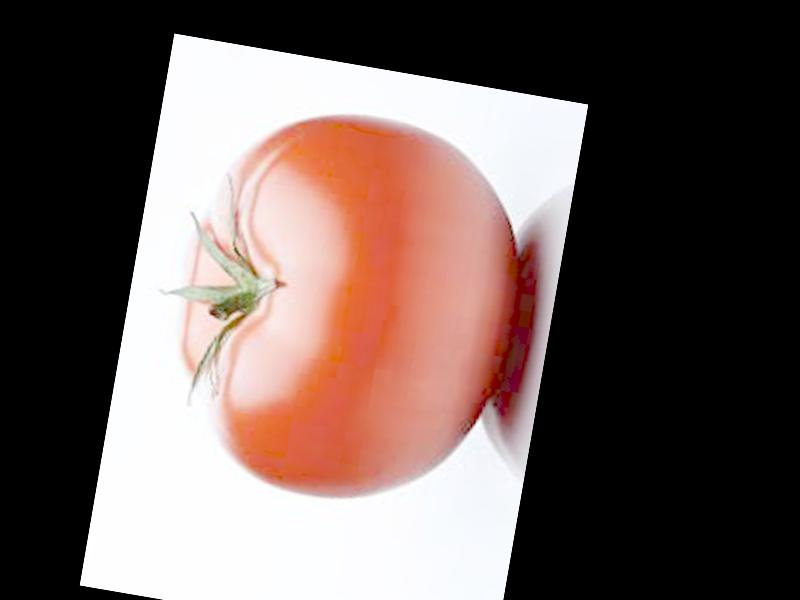Tomato: (153, 89, 538, 521)
